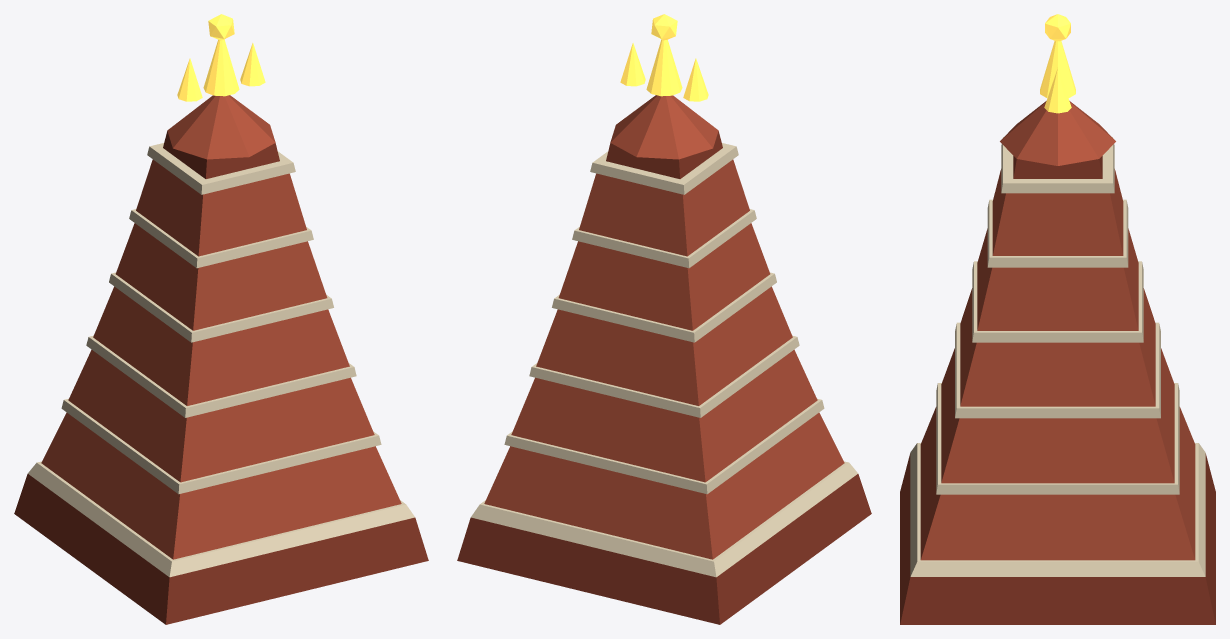
Rendered from gopuram.glb.
The picture shows the model from 3 angles, left to right: view 1: azimuth 30°, elevation 25°; view 2: azimuth 150°, elevation 25°; view 3: azimuth 270°, elevation 25°; orthographic projection. The views are drawn at different scales.
Visible parts, largest first — view 1: plinth; view 2: plinth; view 3: plinth.
Part boxes in pixels (x1,y1,x2,y2): plinth: [14, 14, 428, 624]; plinth: [457, 14, 871, 624]; plinth: [900, 14, 1215, 624].
Bounding box in the file's own units: 0.92 × 1.75 × 0.92.
